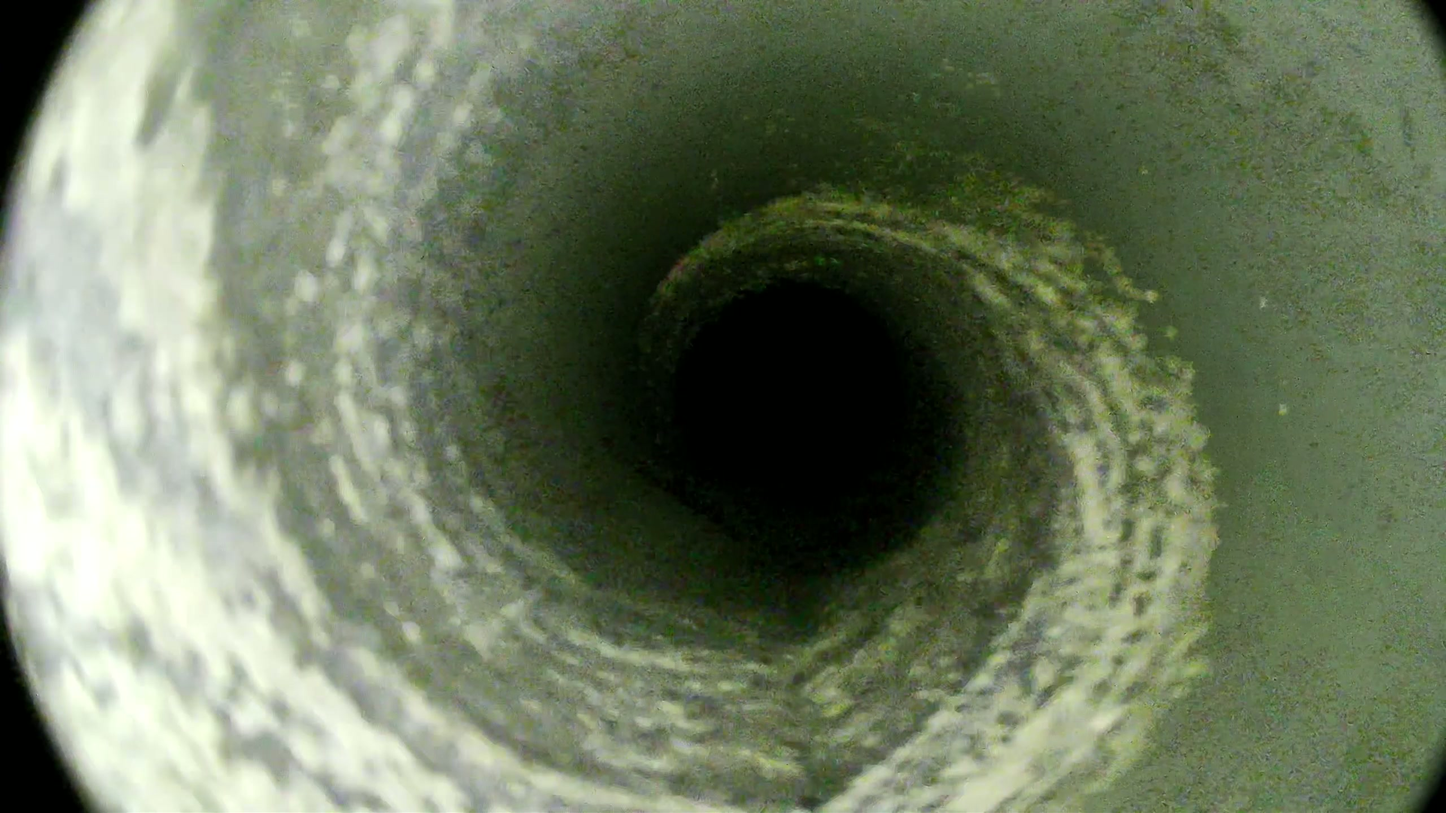hole: (682, 285, 905, 504)
